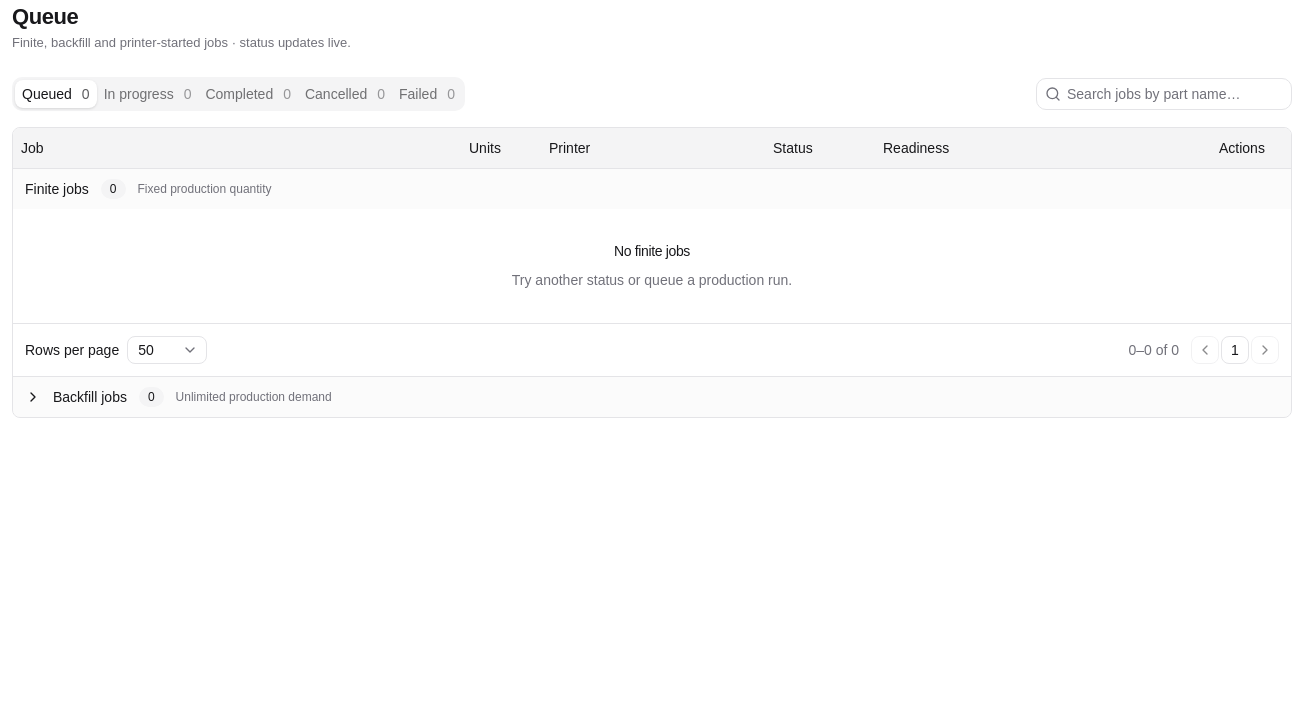
it: QueuePage › shows empty feedback for both sections
This screenshot has width=1304, height=720.
Expected: the text "No finite jobs" is shown, left=614, top=240, right=690, bottom=260
Click the button with aria-label "Expand backfill jobs". click: (90, 397)
box: left=13, top=377, right=1291, bottom=417
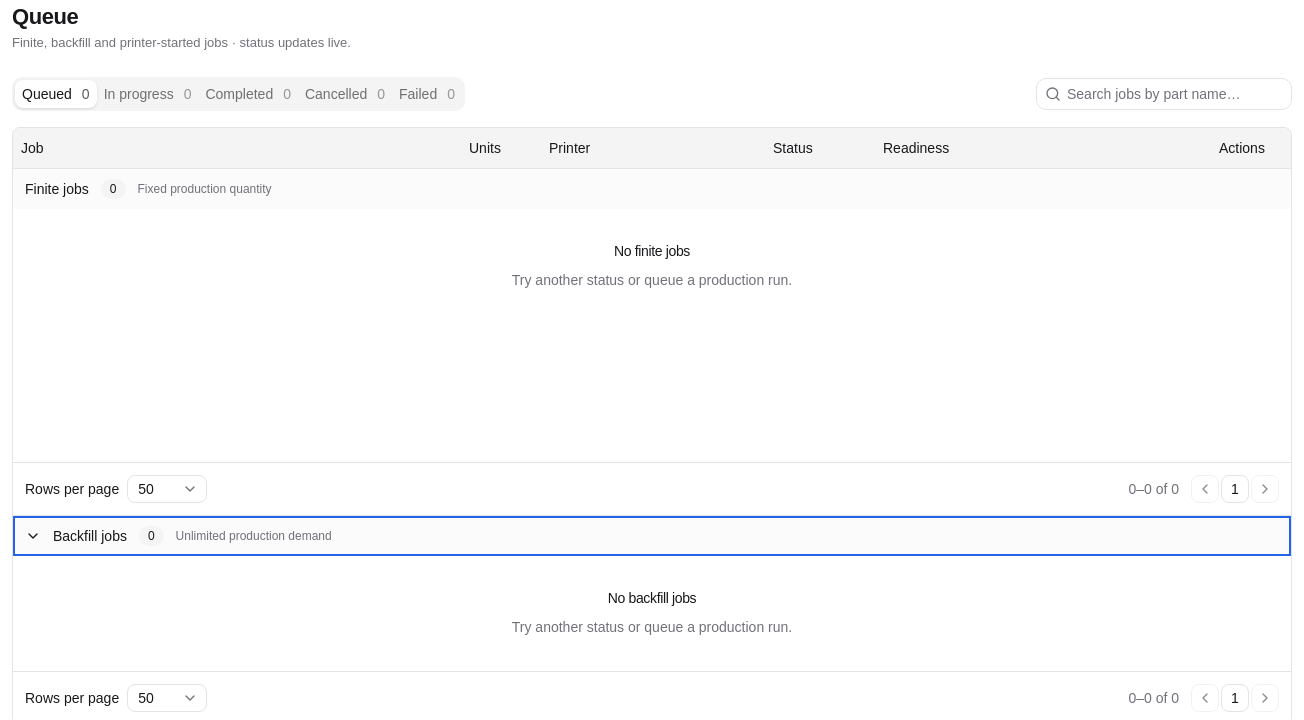
Now the text "No backfill jobs" is shown, box left=608, top=588, right=696, bottom=608
